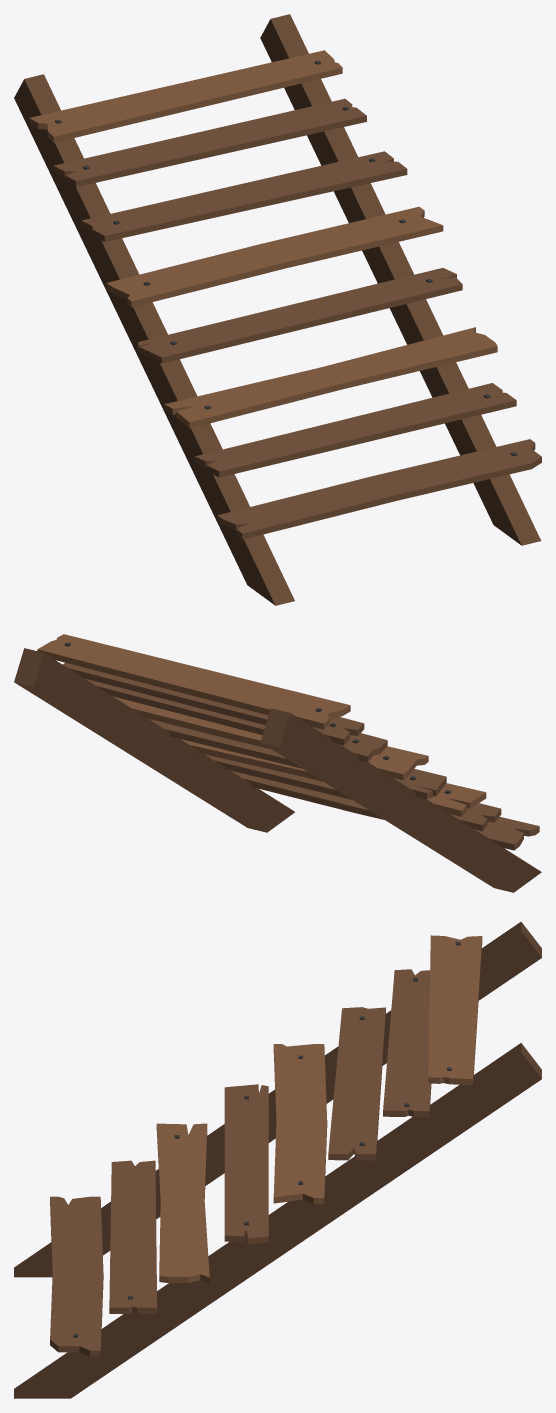
The model's file is HouseStairs_01.fbx.
3 renders of one model, top to bottom at view 1: azimuth 30°, elevation 25°; view 2: azimuth 150°, elevation 25°; view 3: azimuth 270°, elevation 25°, orthographic.
Parts seen in each view (by area): view 1: HouseStairs_01_LOD0; view 2: HouseStairs_01_LOD0; view 3: HouseStairs_01_LOD0.
Boxes of the visible parts, x1=… form: HouseStairs_01_LOD0: x1=14, y1=14, x2=541, y2=605; HouseStairs_01_LOD0: x1=14, y1=634, x2=541, y2=892; HouseStairs_01_LOD0: x1=14, y1=921, x2=541, y2=1398.
Size of what is drawn, in the model's own units: 1.47 by 1.54 by 2.13.
